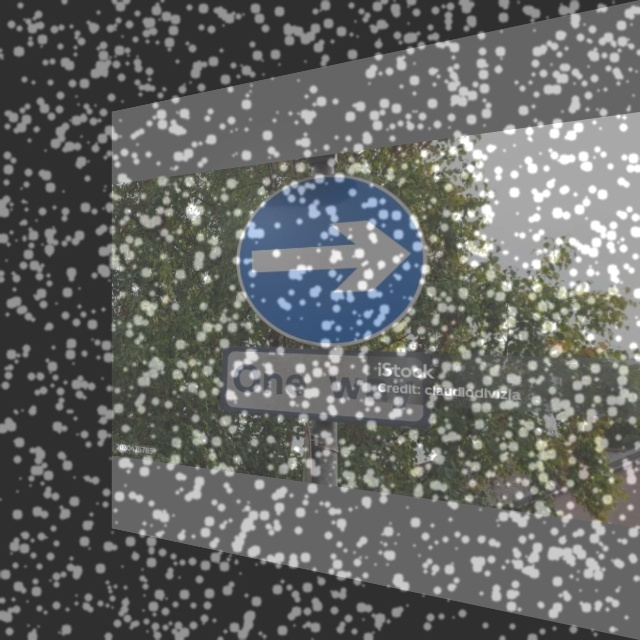Compulsory_Turn_Right: (236, 160, 430, 350)
